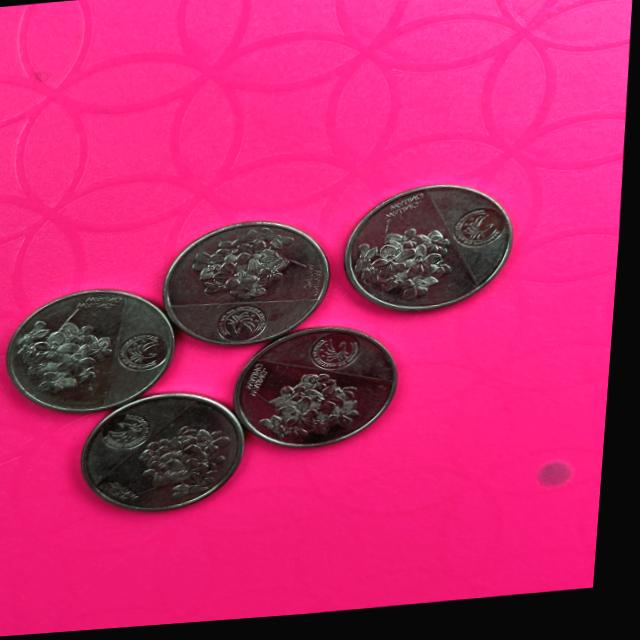1_New_Back: (138, 421, 243, 525), (351, 220, 464, 304), (12, 304, 125, 386), (202, 227, 306, 308), (279, 376, 374, 447)
